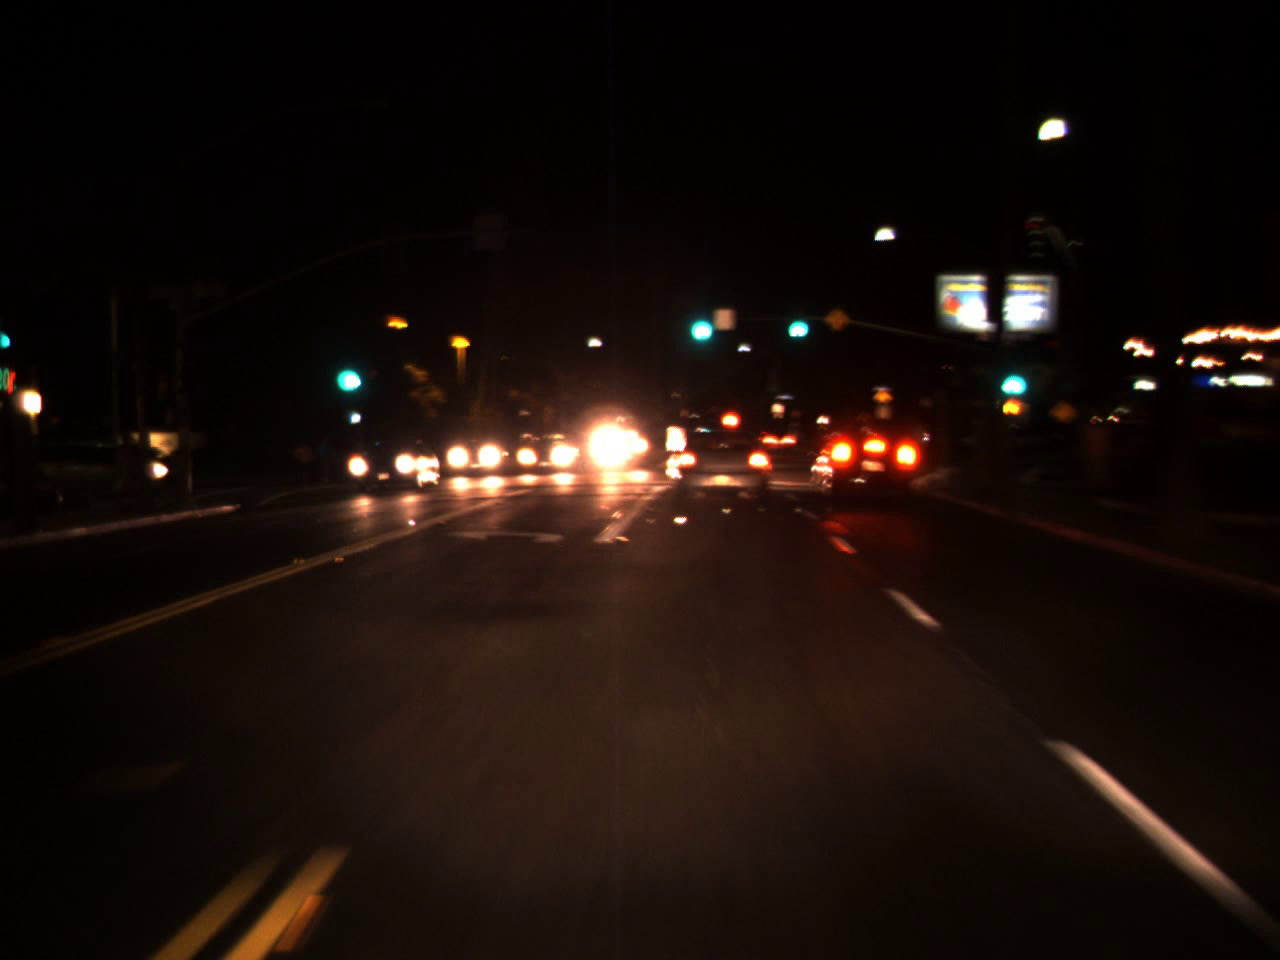go: (327, 342, 364, 399), (990, 351, 1031, 402), (682, 296, 718, 347), (779, 302, 813, 341)
